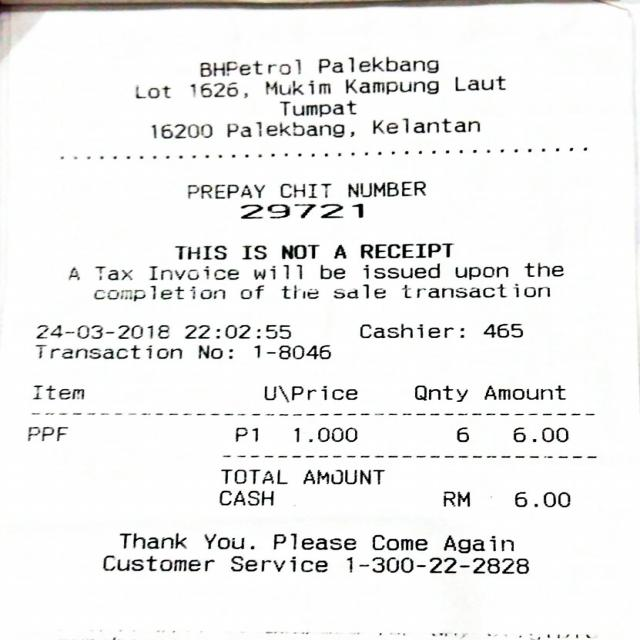text: (344, 556, 528, 574), (402, 282, 548, 298), (93, 284, 224, 301), (33, 344, 181, 359), (316, 55, 438, 73), (225, 121, 352, 137), (34, 324, 168, 339), (101, 554, 213, 571), (199, 58, 299, 77), (239, 203, 362, 218), (371, 117, 478, 134), (263, 384, 356, 402), (229, 555, 326, 572), (360, 322, 463, 338), (343, 78, 438, 95), (183, 324, 290, 339), (272, 532, 355, 550), (360, 242, 452, 258), (148, 264, 237, 280), (346, 180, 424, 197), (442, 535, 512, 553), (362, 262, 438, 278), (483, 385, 564, 400), (302, 469, 383, 484), (280, 100, 355, 116), (290, 426, 358, 443), (253, 344, 329, 359), (186, 184, 264, 198), (218, 468, 286, 484), (117, 532, 185, 548), (264, 79, 329, 95), (190, 81, 247, 98), (511, 425, 568, 442), (414, 384, 466, 402), (371, 533, 426, 550), (150, 123, 211, 138), (513, 491, 569, 507), (218, 490, 273, 506), (278, 182, 330, 198), (203, 533, 253, 549), (454, 75, 504, 90), (334, 283, 384, 298), (32, 384, 82, 399), (173, 245, 226, 259), (454, 265, 506, 279), (253, 264, 300, 279), (482, 322, 522, 338), (24, 426, 64, 442), (522, 262, 562, 277), (93, 265, 131, 280), (280, 244, 318, 258), (280, 284, 318, 298), (197, 344, 232, 359), (230, 425, 260, 442), (134, 85, 169, 98), (442, 490, 468, 506), (318, 264, 344, 279), (240, 245, 265, 259), (240, 284, 262, 298), (454, 426, 470, 444), (334, 244, 345, 258), (68, 266, 78, 280), (0, 18, 1, 24)
